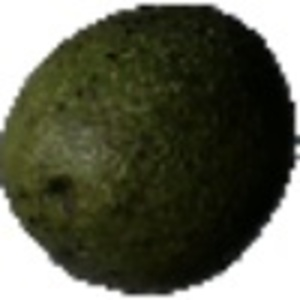abacate: (5, 3, 296, 295)
